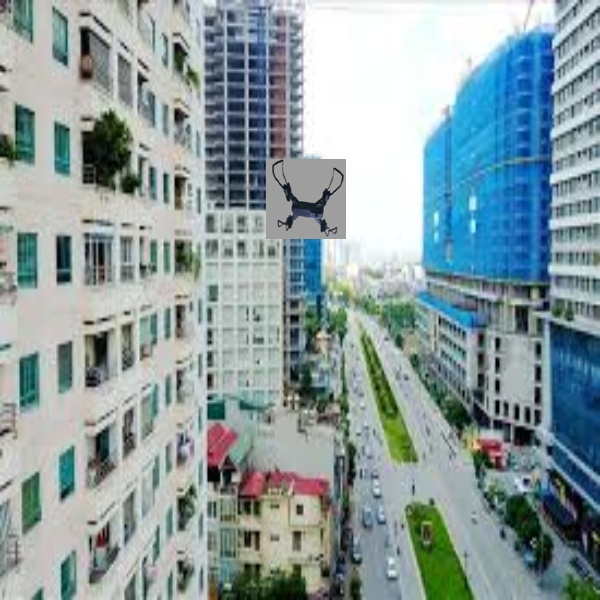drone: (265, 161, 348, 240)
